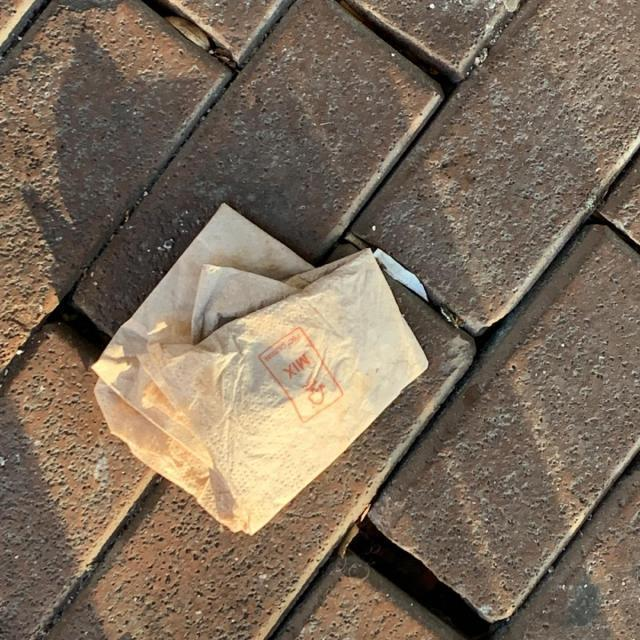Paper: (89, 200, 432, 540)
